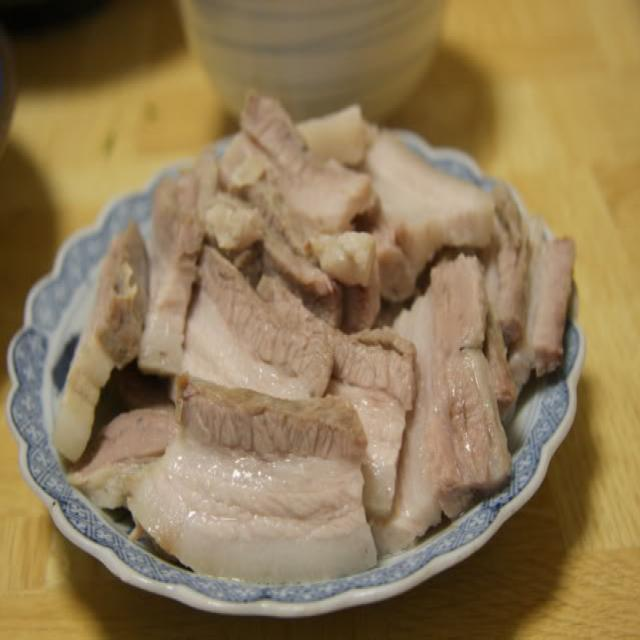thit luoc: (55, 96, 572, 581)
